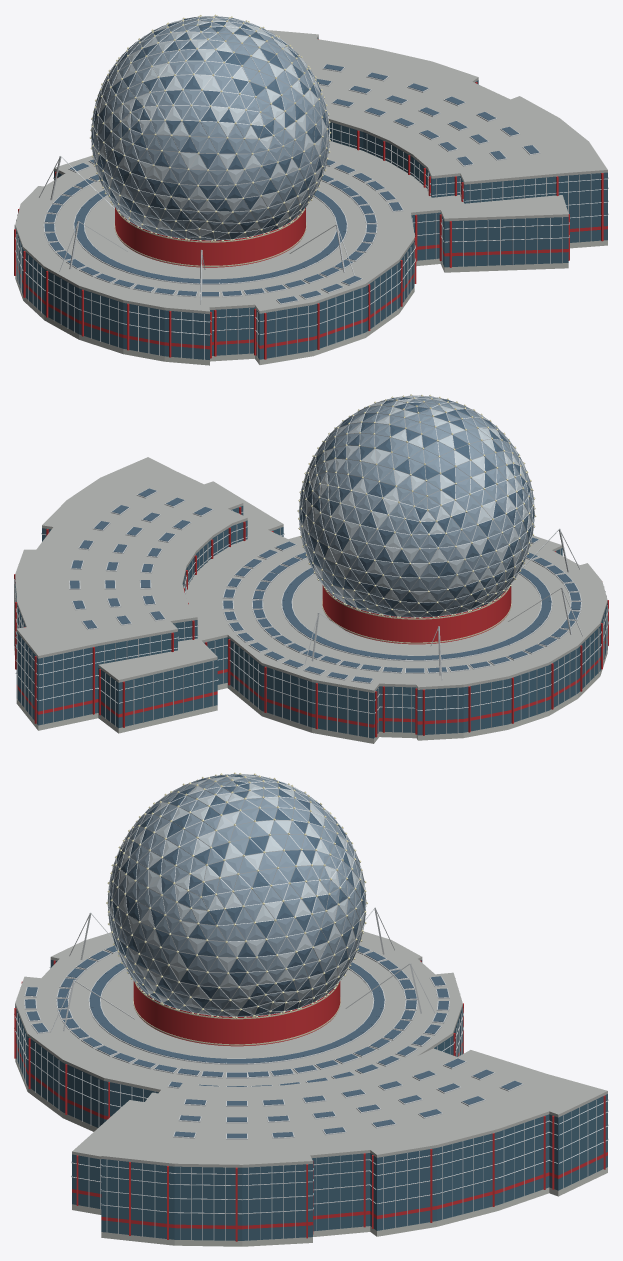
Rendered from science-world-vancouver-near.glb.
The picture shows the model from 3 angles, top to bottom: view 1: azimuth 30°, elevation 25°; view 2: azimuth 150°, elevation 25°; view 3: azimuth 270°, elevation 25°; orthographic projection. The views are drawn at different scales.
Visible parts, largest first — view 1: science-world-vancouver-0-roof, science-world-vancouver-0-glass, science-world-vancouver-0-panel, science-world-vancouver-0-steel, science-world-vancouver-0-panelDark, science-world-vancouver-0-red, science-world-vancouver-0-panelBright, science-world-vancouver-0-concrete, science-world-vancouver-0-light, science-world-vancouver-0-glow; view 2: science-world-vancouver-0-roof, science-world-vancouver-0-glass, science-world-vancouver-0-panel, science-world-vancouver-0-steel, science-world-vancouver-0-panelDark, science-world-vancouver-0-red, science-world-vancouver-0-panelBright, science-world-vancouver-0-concrete, science-world-vancouver-0-light, science-world-vancouver-0-glow; view 3: science-world-vancouver-0-roof, science-world-vancouver-0-glass, science-world-vancouver-0-panel, science-world-vancouver-0-steel, science-world-vancouver-0-panelDark, science-world-vancouver-0-red, science-world-vancouver-0-panelBright, science-world-vancouver-0-concrete, science-world-vancouver-0-light, science-world-vancouver-0-glow.
Part boxes in pixels (<box>): science-world-vancouver-0-roof: <box>15,30,607,314</box>; science-world-vancouver-0-glass: <box>15,37,607,359</box>; science-world-vancouver-0-panel: <box>91,16,329,240</box>; science-world-vancouver-0-steel: <box>14,16,608,359</box>; science-world-vancouver-0-panelDark: <box>44,17,539,303</box>; science-world-vancouver-0-red: <box>14,39,607,359</box>; science-world-vancouver-0-panelBright: <box>91,16,328,238</box>; science-world-vancouver-0-concrete: <box>15,240,607,365</box>; science-world-vancouver-0-light: <box>90,14,331,241</box>; science-world-vancouver-0-glow: <box>114,210,306,266</box>; science-world-vancouver-0-roof: <box>15,457,607,692</box>; science-world-vancouver-0-glass: <box>15,506,607,738</box>; science-world-vancouver-0-panel: <box>299,395,534,617</box>; science-world-vancouver-0-steel: <box>14,395,608,737</box>; science-world-vancouver-0-panelDark: <box>70,397,580,682</box>; science-world-vancouver-0-red: <box>14,507,608,737</box>; science-world-vancouver-0-panelBright: <box>299,396,534,616</box>; science-world-vancouver-0-concrete: <box>16,650,607,743</box>; science-world-vancouver-0-light: <box>297,394,536,618</box>; science-world-vancouver-0-glow: <box>322,585,511,643</box>; science-world-vancouver-0-roof: <box>15,931,607,1167</box>; science-world-vancouver-0-glass: <box>15,960,607,1240</box>; science-world-vancouver-0-panel: <box>108,774,365,1016</box>; science-world-vancouver-0-steel: <box>14,773,608,1241</box>; science-world-vancouver-0-panelDark: <box>25,774,521,1138</box>; science-world-vancouver-0-red: <box>14,960,607,1241</box>; science-world-vancouver-0-panelBright: <box>108,774,365,1016</box>; science-world-vancouver-0-concrete: <box>15,1058,607,1246</box>; science-world-vancouver-0-light: <box>106,772,367,1018</box>; science-world-vancouver-0-glow: <box>133,981,340,1045</box>.
Size of the model in its own units: 100 by 47.33 by 92.15.
